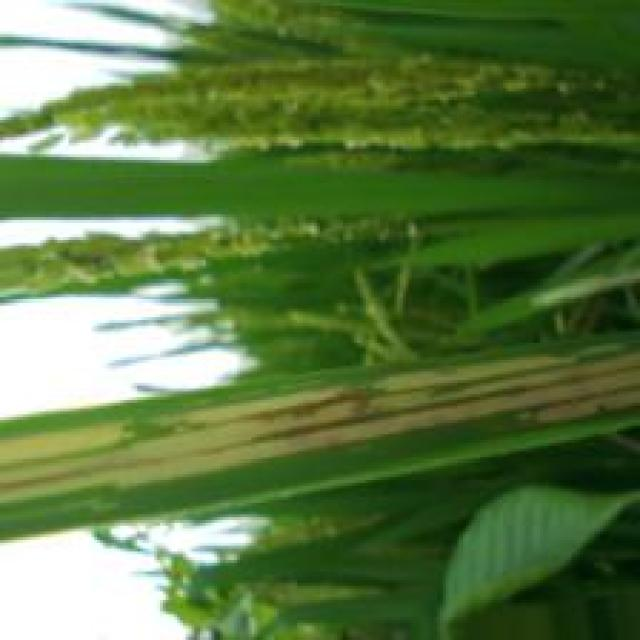Rice_Hispa: (0, 348, 640, 506)
